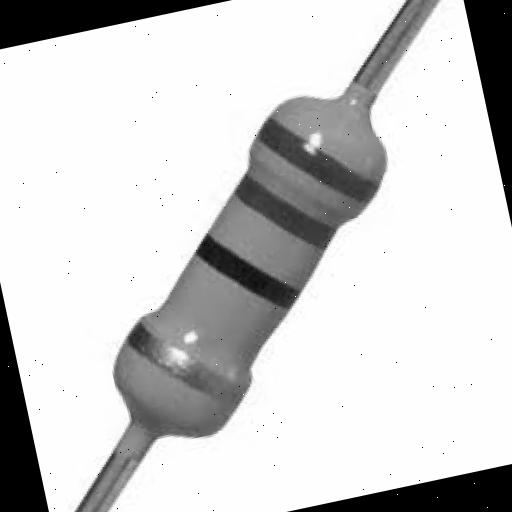RESISTOR: (0, 58, 459, 512)
